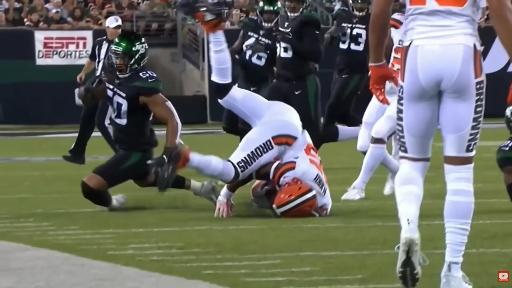Helmet: (108, 31, 148, 75), (273, 184, 317, 217), (257, 0, 281, 28), (285, 0, 308, 17), (349, 0, 370, 16), (392, 0, 405, 13), (505, 106, 511, 134)
Jersey: (271, 131, 331, 213), (106, 70, 161, 151), (404, 0, 481, 45), (276, 12, 321, 80), (239, 18, 277, 85), (334, 8, 370, 72), (390, 13, 404, 78), (496, 137, 511, 169)
Player: (170, 0, 330, 215), (395, 0, 485, 287), (79, 32, 216, 209), (267, 0, 359, 149), (267, 0, 322, 147), (323, 0, 370, 142), (342, 83, 398, 200), (230, 0, 281, 95), (496, 137, 511, 200)
